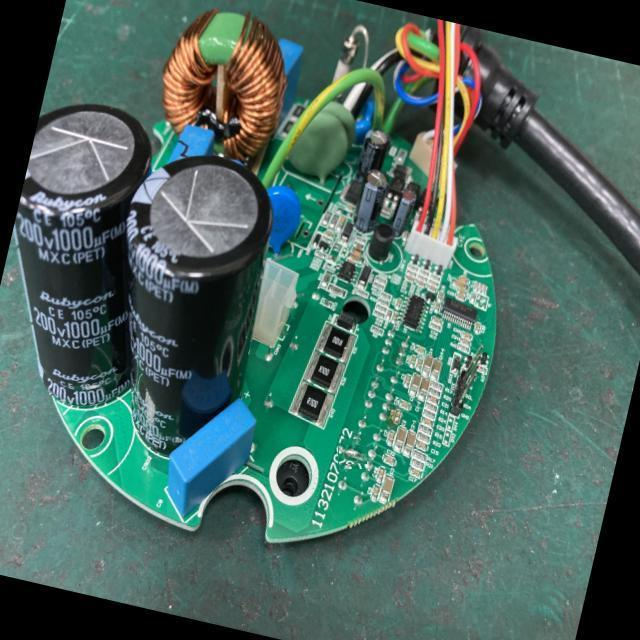damged: (340, 442, 365, 467)
